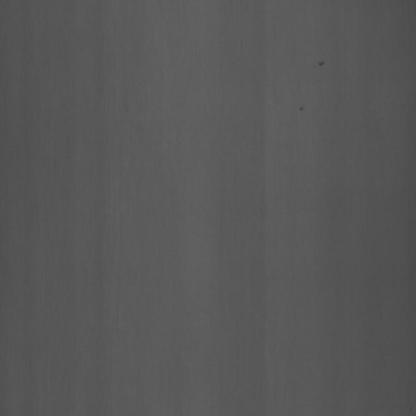inclusion: (298, 100, 306, 120), (318, 54, 324, 71)
